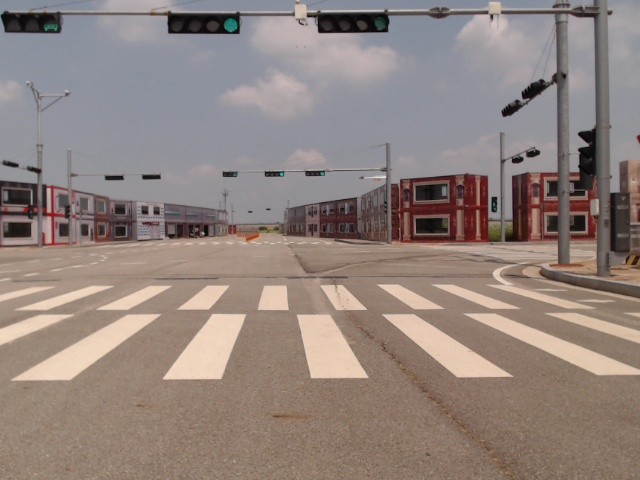straight_green_4: (167, 13, 240, 35), (316, 12, 388, 34), (263, 170, 284, 178), (305, 171, 324, 177)
